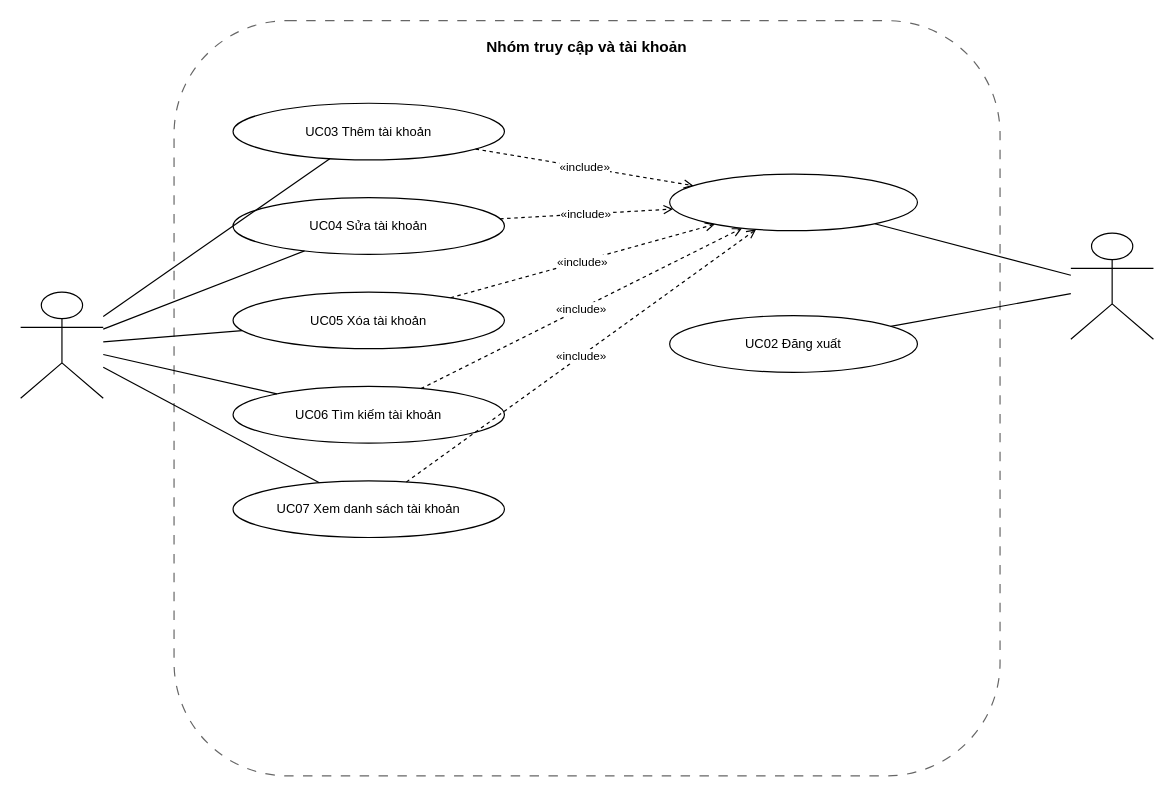
Some shapes in this 1174 by 796 pixel diagram are drawn without their labels. Here are the shapes that lost their labels. From the top down, the centre of each, then its label:
At point (792, 202): "UC01 Đăng nhập".
At point (1111, 285): "Người dùng".
At point (61, 344): "Quản trị viên".
